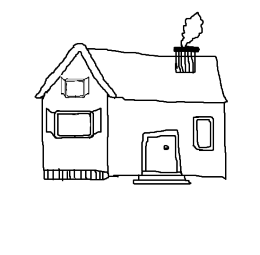door: (137, 126, 189, 184)
open_window: (45, 107, 102, 139), (193, 116, 214, 150)
roof: (34, 43, 228, 104)
smoking_chimney: (164, 7, 215, 75)
wall: (103, 93, 227, 179)
